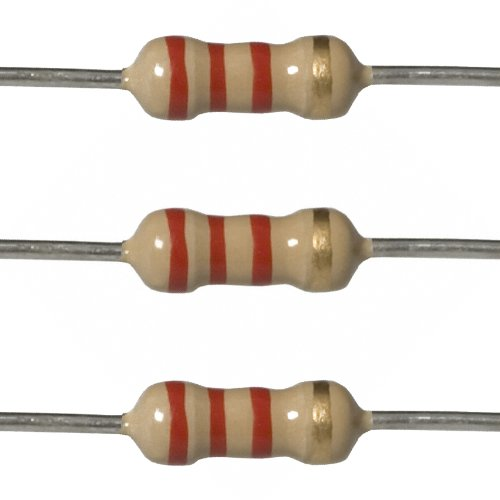Resistor: (126, 206, 364, 295), (130, 379, 362, 467), (128, 35, 365, 121)
